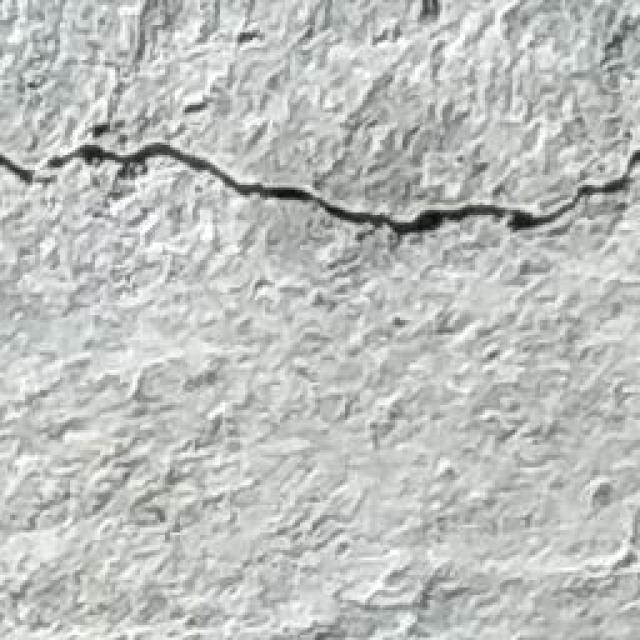Transverse: (0, 133, 640, 266)
